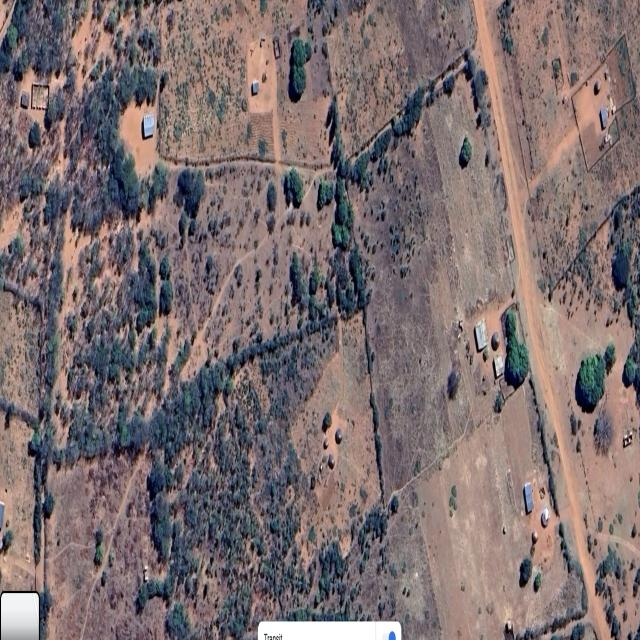boundaries: (469, 0, 619, 640), (43, 307, 344, 468), (346, 42, 478, 189), (34, 181, 78, 589), (73, 456, 148, 640), (157, 145, 336, 179), (1, 254, 56, 327), (0, 384, 50, 449)
